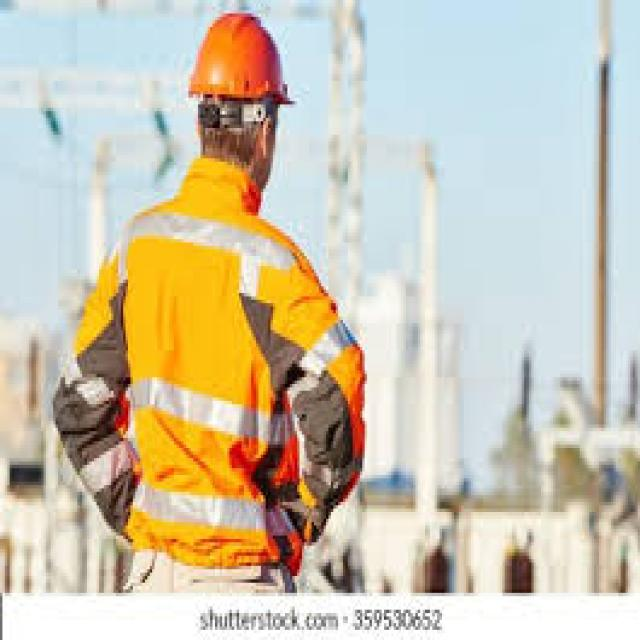Reflective-Jacket: (85, 185, 376, 583)
Safety-Helmet: (181, 7, 295, 121)
